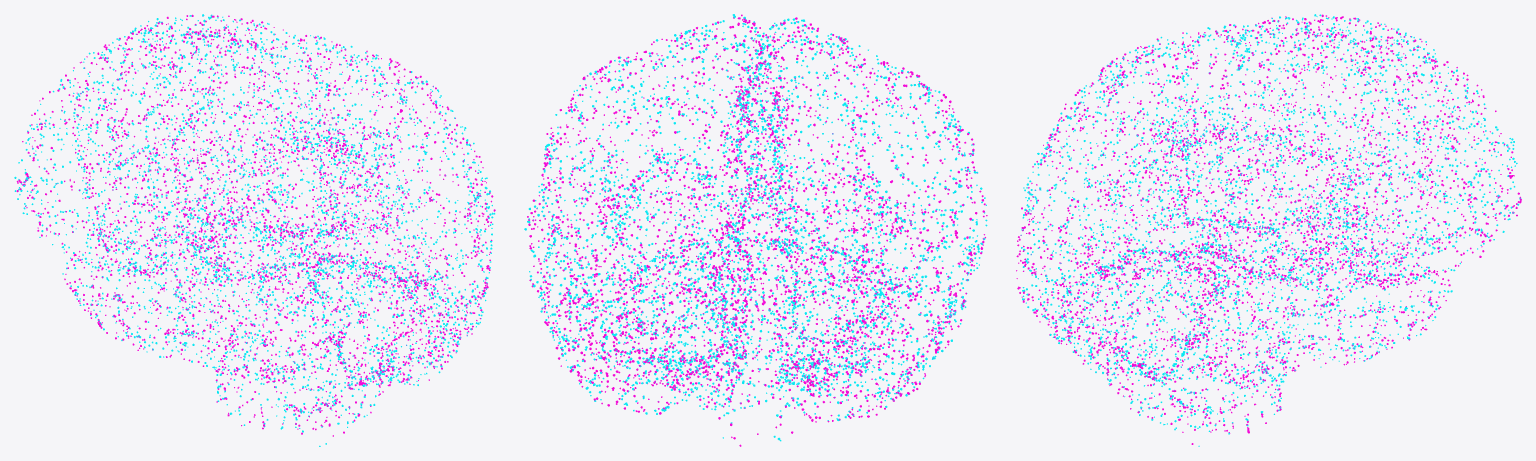
3 views of the same model, side by side, from view 1: azimuth 30°, elevation 25°; view 2: azimuth 150°, elevation 25°; view 3: azimuth 270°, elevation 25° (orthographic). The views are drawn at different scales.
Parts seen in each view (by area): view 1: Icosphere.001; view 2: Icosphere.001; view 3: Icosphere.001.
Boxes of the visible parts, x1=… form: Icosphere.001: x1=14, y1=14, x2=495, y2=446; Icosphere.001: x1=524, y1=14, x2=987, y2=446; Icosphere.001: x1=1016, y1=14, x2=1521, y2=446.
Size of the model in its own units: 1.09 by 1.1 by 1.3.
